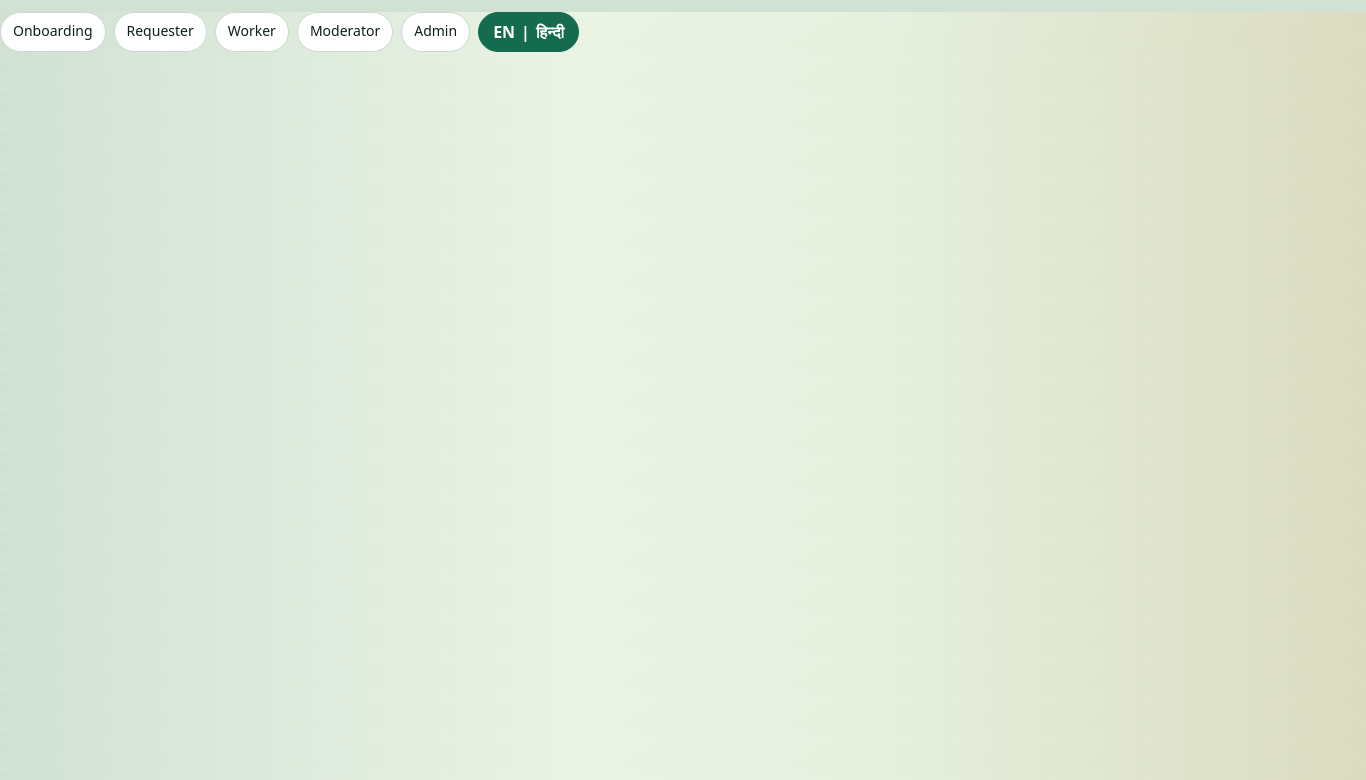
Test: TopNav i18n integration › Hindi locale (after toggle) › switches back to English labels on second toggle click
The width and height of the screenshot is (1366, 780).
# Toggle to Hindi
Click the button with test id "language-toggle" at (529, 32), box x1=478 y1=12 x2=579 y2=52
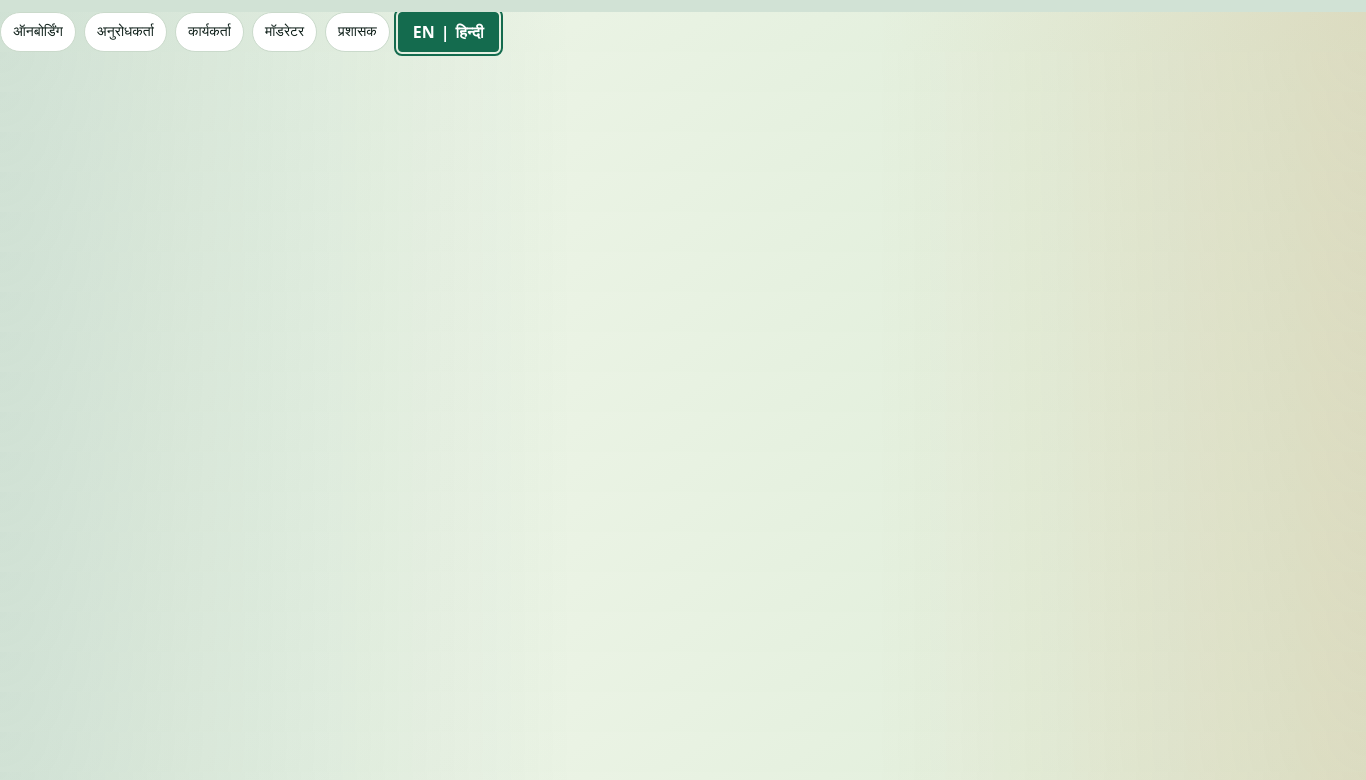
Check: the link "ऑनबोर्डिंग" is shown, box x1=0 y1=12 x2=76 y2=52
# Toggle back to English
Click the button with test id "language-toggle" at (448, 32), box x1=398 y1=12 x2=499 y2=52
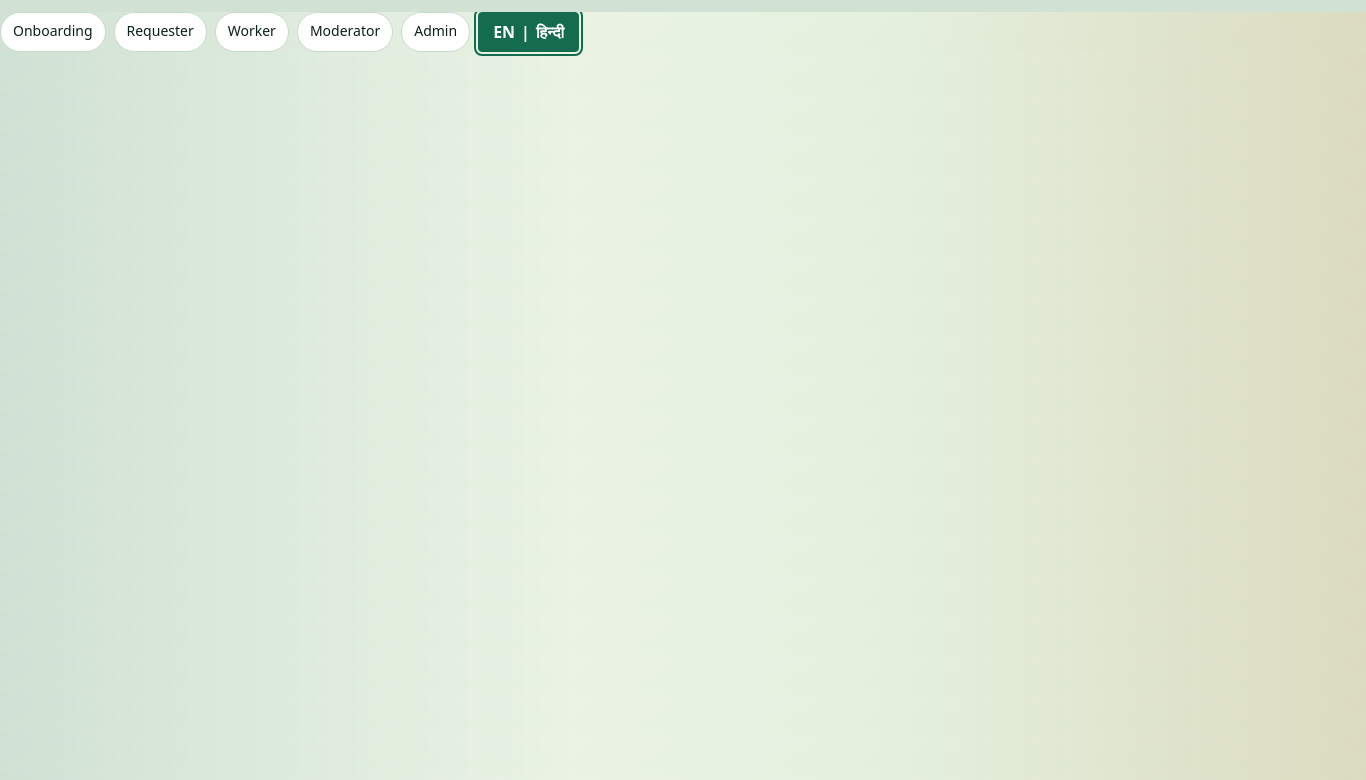
Check: the link "Worker" is shown, box x1=215 y1=12 x2=289 y2=52
Check: the link "Onboarding" is shown, box x1=0 y1=12 x2=106 y2=52
